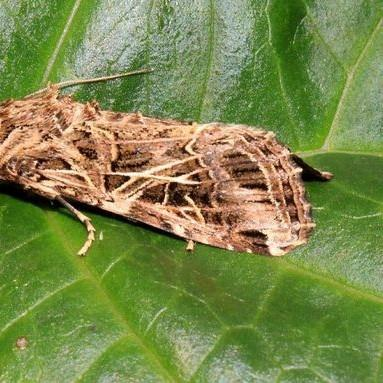Spodoptera litura: (1, 68, 334, 257)
